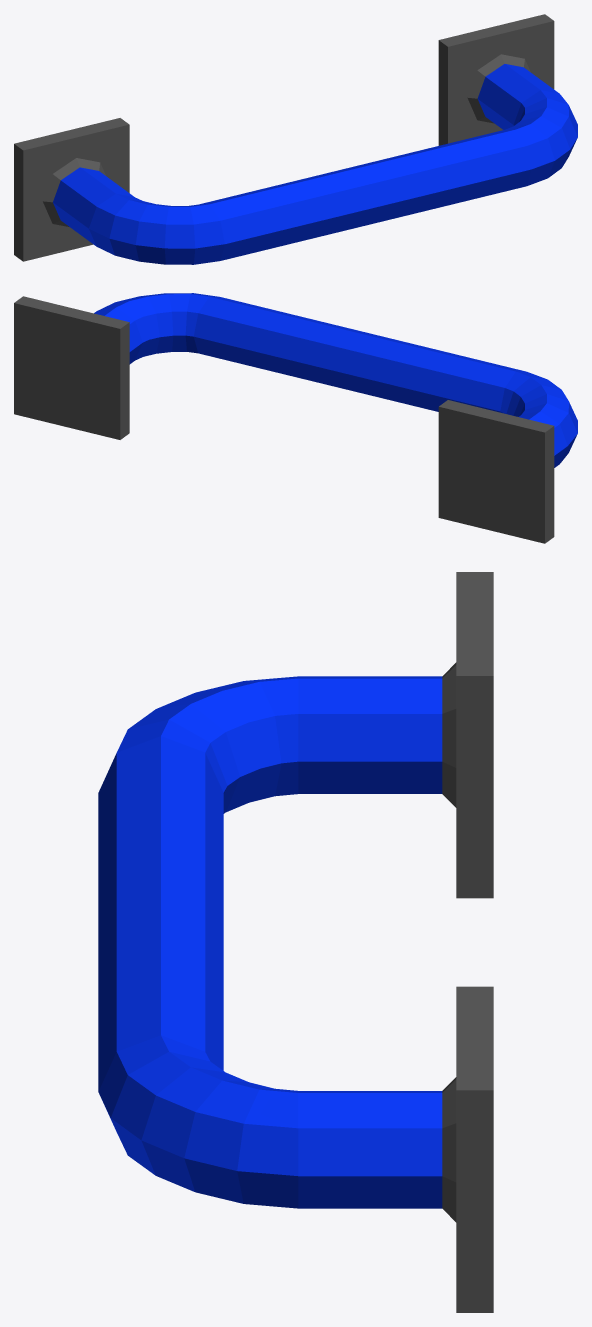
File: Hold_Bar.fbx
3 views of the same model, one above another, from view 1: azimuth 30°, elevation 25°; view 2: azimuth 150°, elevation 25°; view 3: azimuth 270°, elevation 25° (orthographic). The views are drawn at different scales.
Parts seen in each view (by area): view 1: Hold_Bar; view 2: Hold_Bar; view 3: Hold_Bar.
Boxes of the visible parts, left/top/right/bottom form: Hold_Bar: left=14, top=14, right=577, bottom=264; Hold_Bar: left=14, top=293, right=577, bottom=543; Hold_Bar: left=98, top=572, right=493, bottom=1312.
Size of the model in its own units: 3303 by 661 by 1064.
